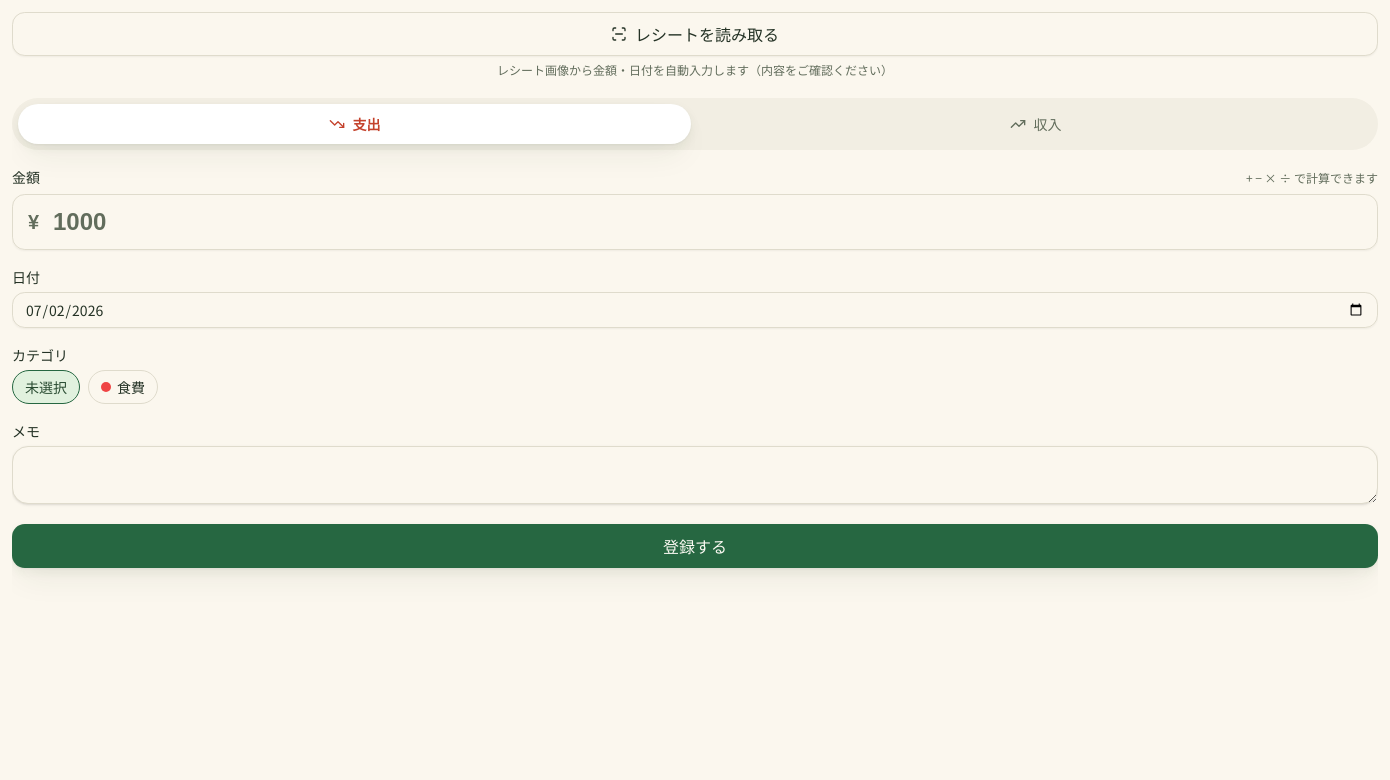
Scenario: TransactionForm › 金額欄に四則演算式を入力すると計算結果のプレビューを表示する
Type "1000+500" into the field labelled "金額".
click(695, 222); type("1000+500")  # box [12, 194, 1378, 250]
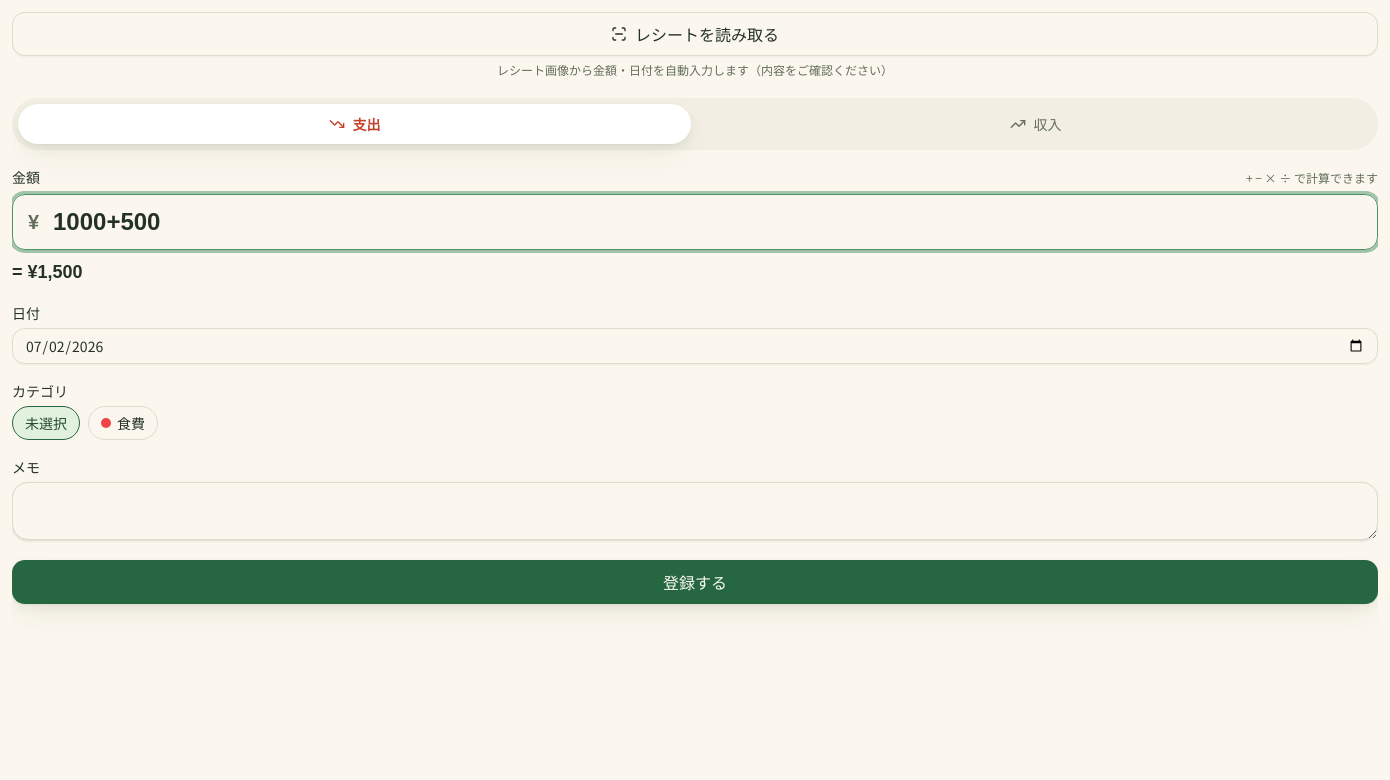
Check: the text "= ¥1,500" is shown, box [12, 262, 83, 282]
